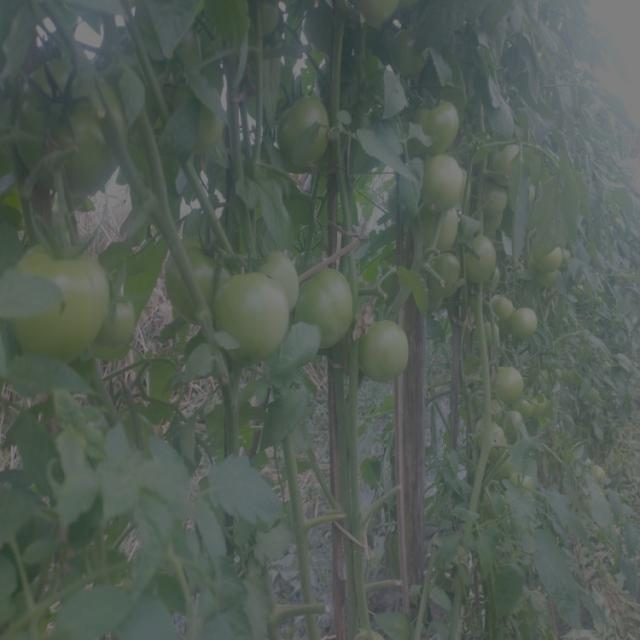tomato: (18, 54, 119, 203), (13, 243, 105, 359), (225, 249, 294, 358), (169, 240, 219, 323), (278, 95, 334, 166), (303, 277, 351, 345), (368, 319, 415, 383), (411, 98, 460, 159), (419, 164, 467, 208), (491, 294, 541, 334), (414, 211, 456, 251), (535, 247, 574, 285), (472, 182, 508, 222), (467, 233, 497, 280), (472, 419, 508, 457), (111, 295, 138, 344), (198, 107, 225, 156), (492, 364, 527, 401), (432, 257, 461, 293), (501, 142, 527, 174), (590, 461, 612, 485), (515, 467, 545, 483), (516, 411, 526, 432)
